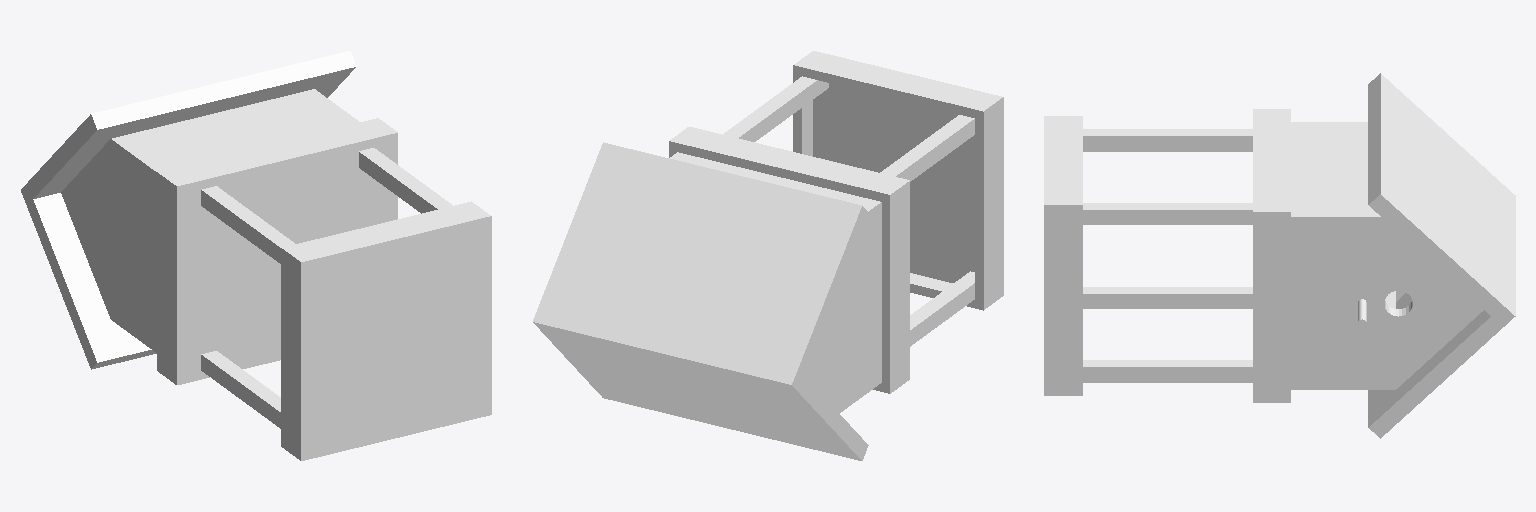
URDF robot description (cube.urdf):
<?xml version="0.0" ?>
<robot name="cube.urdf">
  <link name="baseLink">
    <contact>
      <lateral_friction value="1.0"/>
  <!--     <rolling_friction value="0.0"/>
      <spinning_friction value="0.01">
      <inertia_scaling value="3.0"/>
      <contact_cfm value="0.0"/>
      <contact_erp value="1.0"/> -->
    </contact>
    <inertial>
      <origin rpy="0 0 0" xyz="0 0 0"/>
       <mass value="1.5"/>
       <inertia ixx="1" ixy="0" ixz="0" iyy="1" iyz="0" izz="1"/>
    </inertial>
    <visual>
      <origin rpy="0 0 0" xyz="0 0 0"/>
        <geometry>
      <mesh filename="model.obj" scale=".55 .55 .55"/>
        </geometry>
        <material name="white">
          <color rgba="1 1 1 1"/>
        </material>
    </visual>
    <collision>
        <origin rpy="0 0 0" xyz="0 0 0"/>
        <geometry>
          <mesh filename="model.obj" scale=".55 .55 .55"/>
        </geometry>
    </collision>
  </link>
</robot>

--- Facts derived from the render (not from the file) ---
The picture shows the robot from 3 angles, left to right: view 1: azimuth 30°, elevation 25°; view 2: azimuth 150°, elevation 25°; view 3: azimuth 270°, elevation 25°; orthographic projection.
Model cube.urdf with 1 links and 0 joints (none), rooted at baseLink, posed all joints at 0.
Links seen in each view (by area): view 1: baseLink; view 2: baseLink; view 3: baseLink.
Boxes of the visible links, x1=… form: baseLink: x1=21, y1=51, x2=491, y2=460; baseLink: x1=533, y1=51, x2=1003, y2=460; baseLink: x1=1044, y1=73, x2=1515, y2=438.
Size in the robot's own frame: 0.2684 by 0.4165 by 0.2387 metres.
1 mesh visuals loaded from 1 distinct referenced files (1 OBJ).